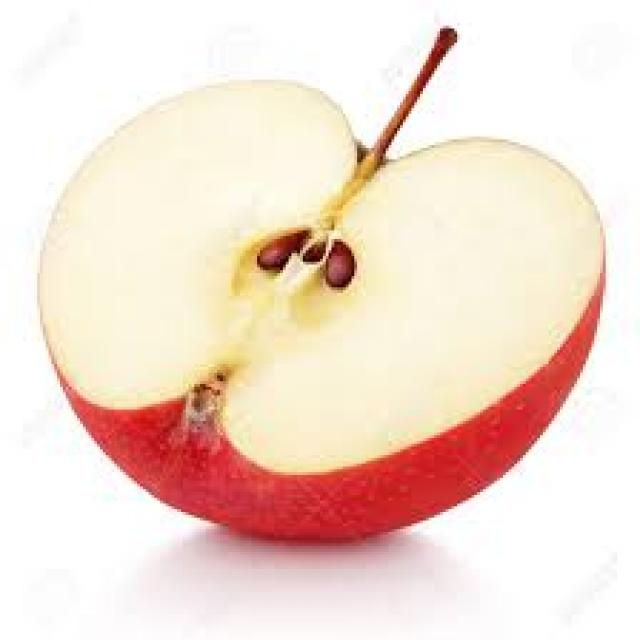Apple: (37, 79, 606, 542)
